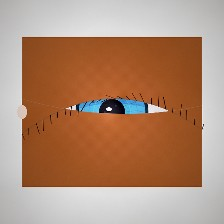hemorrhage_spot: (112, 101, 180, 155)
